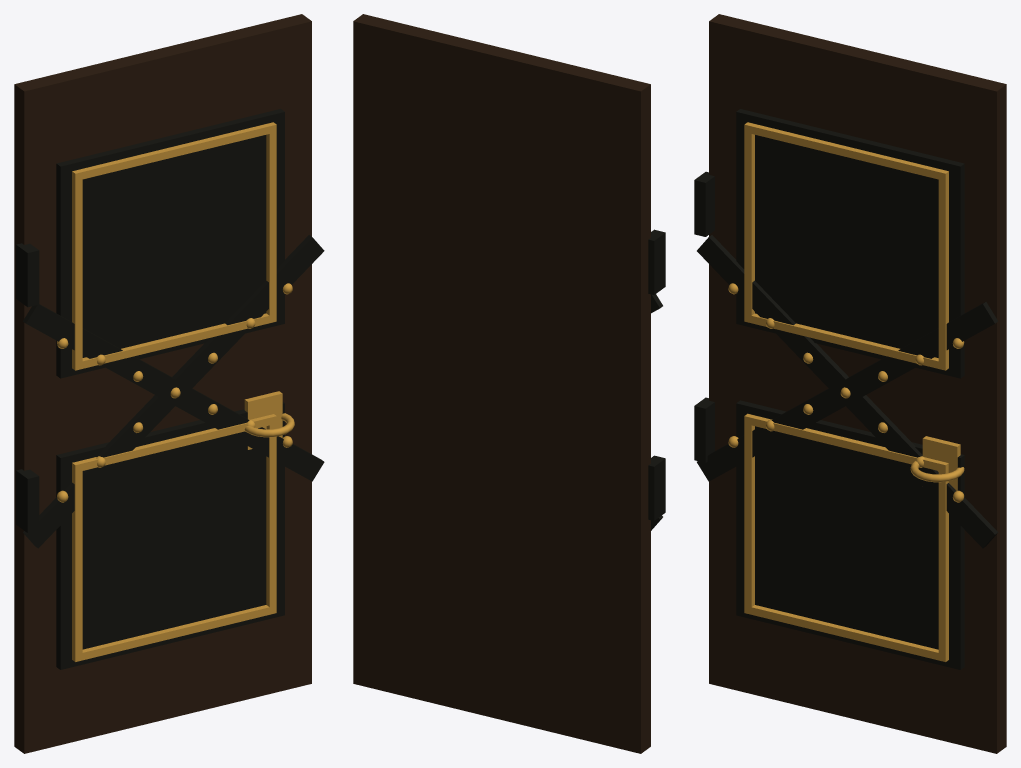
Rendered from iron-door.glb.
3 renders of one model, left to right at view 1: azimuth 30°, elevation 25°; view 2: azimuth 150°, elevation 25°; view 3: azimuth 330°, elevation 25°, orthographic.
Size of the model in its own units: 1.04 by 2.2 by 0.187.
